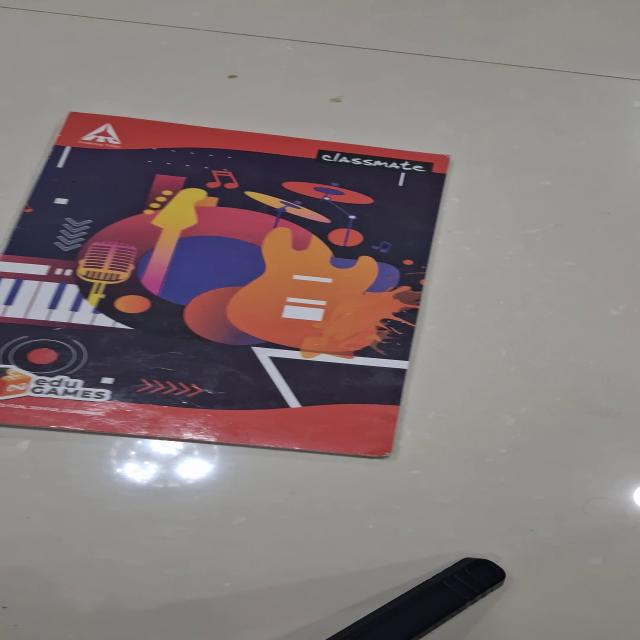paper: (1, 111, 450, 458)
